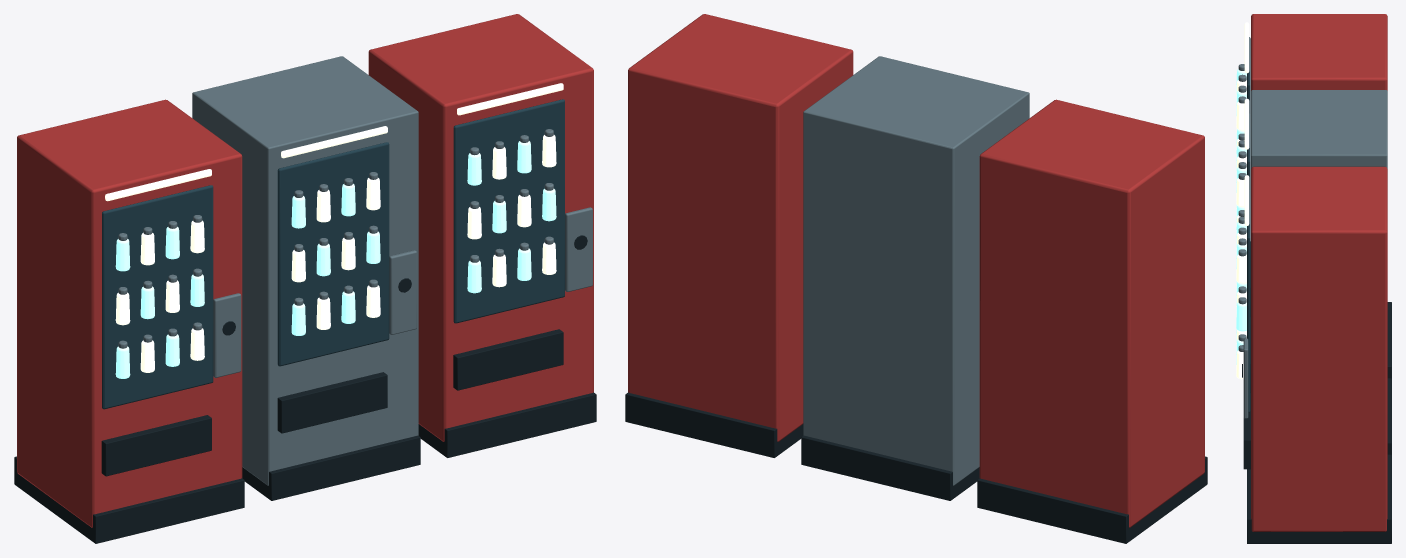
The model's file is vending_bank.glb.
3 renders of one model, left to right at view 1: azimuth 30°, elevation 25°; view 2: azimuth 150°, elevation 25°; view 3: azimuth 270°, elevation 25°, orthographic. The views are drawn at different scales.
Parts seen in each view (by area): view 1: Detail.vending_bank.Red, Detail.vending_bank.Glass, Detail.vending_bank.Metal, Detail.vending_bank.Dark, Detail.vending_bank.Light, Detail.vending_bank.Cyan; view 2: Detail.vending_bank.Red, Detail.vending_bank.Metal, Detail.vending_bank.Dark; view 3: Detail.vending_bank.Red, Detail.vending_bank.Metal, Detail.vending_bank.Dark, Detail.vending_bank.Light, Detail.vending_bank.Glass, Detail.vending_bank.Cyan.
Part boxes in pixels (x1,y1,x2,y2): Detail.vending_bank.Red: (17, 14, 593, 527); Detail.vending_bank.Glass: (102, 99, 564, 409); Detail.vending_bank.Metal: (118, 56, 592, 485); Detail.vending_bank.Dark: (14, 235, 596, 543); Detail.vending_bank.Light: (105, 83, 563, 372); Detail.vending_bank.Cyan: (115, 141, 556, 378); Detail.vending_bank.Red: (628, 14, 1204, 527); Detail.vending_bank.Metal: (803, 56, 1029, 485); Detail.vending_bank.Dark: (625, 392, 1207, 543); Detail.vending_bank.Red: (1251, 14, 1387, 531); Detail.vending_bank.Metal: (1238, 64, 1387, 418); Detail.vending_bank.Dark: (1242, 241, 1391, 543); Detail.vending_bank.Light: (1236, 22, 1249, 379); Detail.vending_bank.Glass: (1247, 37, 1250, 412); Detail.vending_bank.Cyan: (1236, 69, 1246, 364).
Bounding box in the file's own units: 3.03 × 2.03 × 0.9127.
